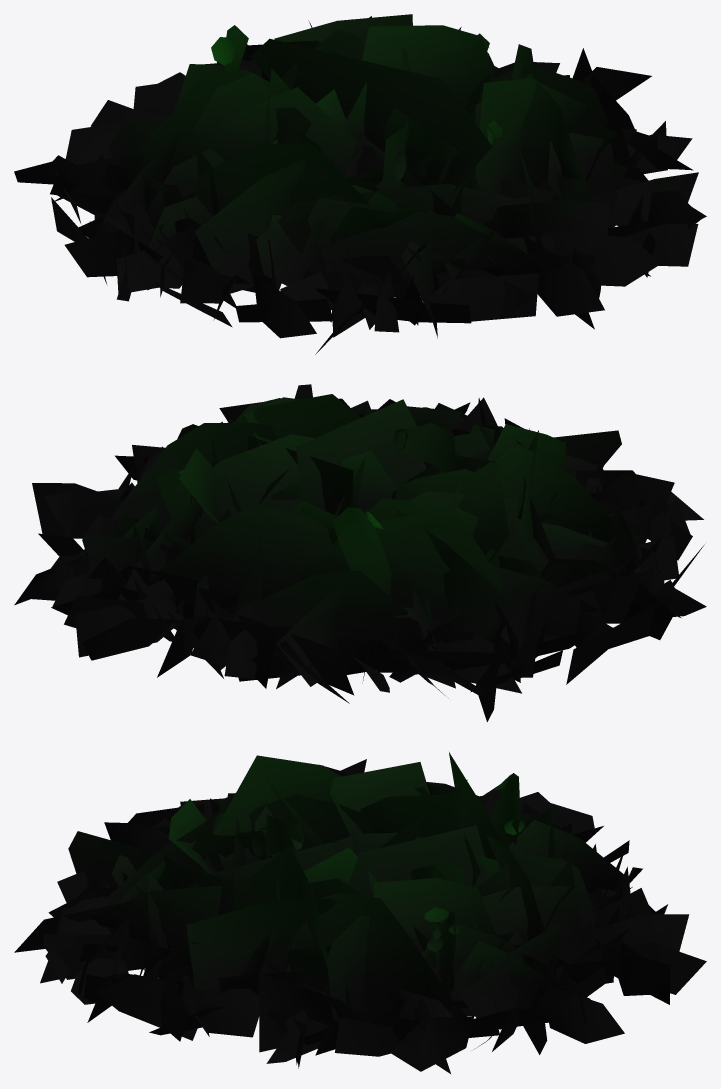
The model's file is Grass Mixed_E.fbx.
3 views of the same model, one above another, from view 1: azimuth 30°, elevation 25°; view 2: azimuth 150°, elevation 25°; view 3: azimuth 270°, elevation 25° (orthographic). The views are drawn at different scales.
Visible parts, largest first — view 1: Grass MixedE_G_LOD0, Grass MixedE_F_LOD0; view 2: Grass MixedE_G_LOD0, Grass MixedE_F_LOD0; view 3: Grass MixedE_G_LOD0, Grass MixedE_F_LOD0.
Part boxes in pixels (bbox=[...]): Grass MixedE_G_LOD0: bbox=[14, 14, 706, 354]; Grass MixedE_F_LOD0: bbox=[211, 25, 529, 213]; Grass MixedE_G_LOD0: bbox=[14, 384, 706, 721]; Grass MixedE_F_LOD0: bbox=[156, 423, 455, 620]; Grass MixedE_G_LOD0: bbox=[14, 752, 706, 1073]; Grass MixedE_F_LOD0: bbox=[251, 773, 526, 994].
Size of what is drawn, in the model's own units: 2.29 by 0.5513 by 2.28.
